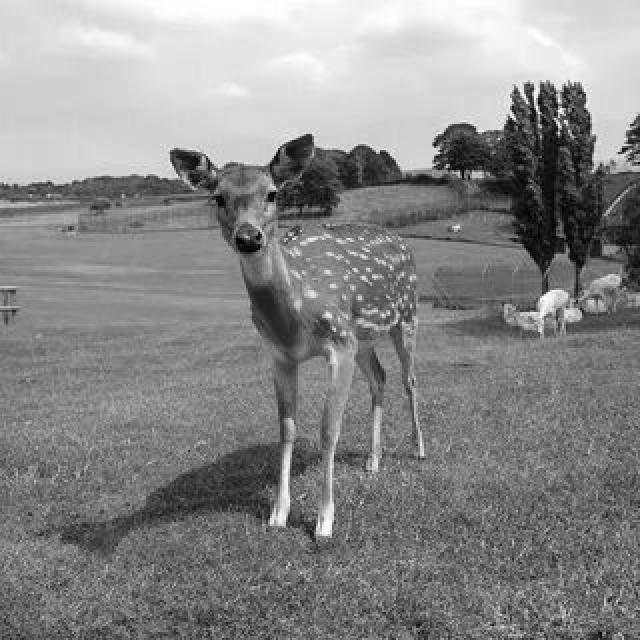Deer: (113, 89, 549, 583)
